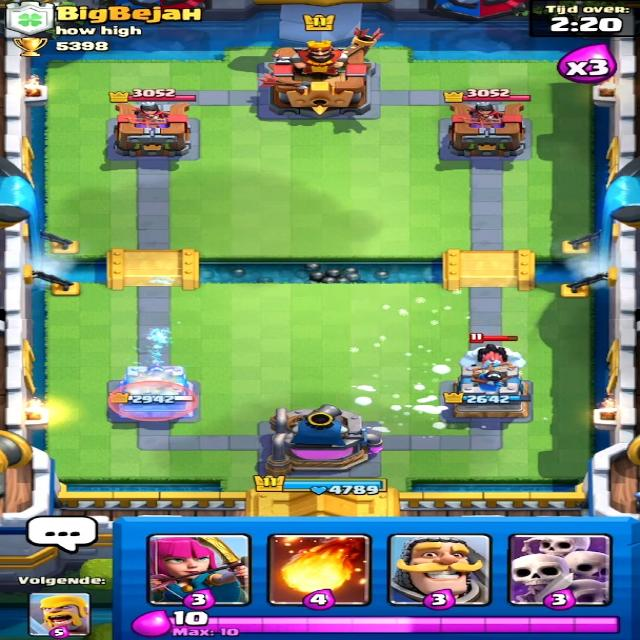Enemy_Ice_Golem_Troop: (458, 344, 532, 366)
Fireball_Card: (264, 536, 381, 606)
